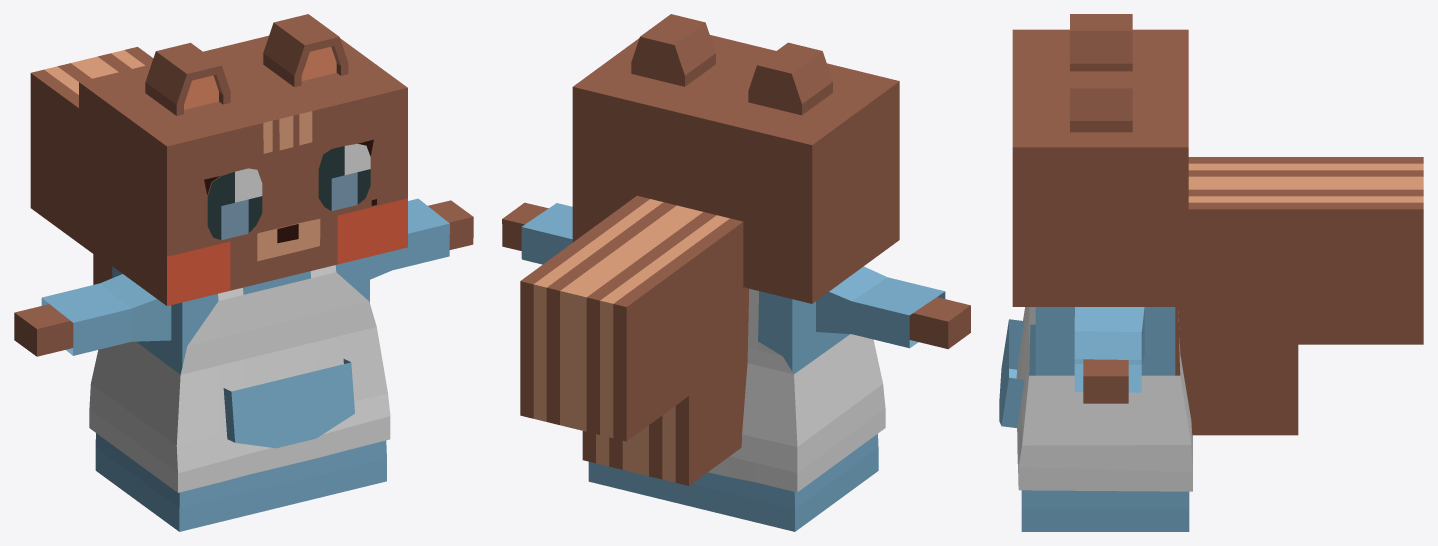
The model's file is npc_basic form_nari's mom.fbx.
3 renders of one model, left to right at view 1: azimuth 30°, elevation 25°; view 2: azimuth 150°, elevation 25°; view 3: azimuth 270°, elevation 25°, orthographic.
Visible parts, largest first — view 1: head.002, dungarees(Skirt).002, Body2.001, tail.002, dungarees(Skirt).001, eyes.003, clothes.R.002, clothes.002, clothes.L.002, arm.R.002, mouth.002, arm.L.002; view 2: head.002, tail.002, dungarees(Skirt).002, Body2.001, clothes.R.002, clothes.002, arm.R.002, clothes.L.002, arm.L.002; view 3: tail.002, head.002, dungarees(Skirt).002, Body2.001, clothes.002, clothes.L.002, arm.L.002, dungarees(Skirt).001.
Boxes of the visible parts, box(x1,y1,x2,y2) form: head.002: box(79, 14, 407, 305); dungarees(Skirt).002: box(89, 265, 390, 492); Body2.001: box(95, 433, 386, 531); tail.002: box(30, 47, 153, 284); dungarees(Skirt).001: box(223, 359, 354, 448); eyes.003: box(204, 139, 373, 240); clothes.R.002: box(41, 274, 171, 355); clothes.002: box(112, 256, 369, 374); clothes.L.002: box(370, 198, 449, 279); arm.R.002: box(14, 304, 73, 356); mouth.002: box(257, 219, 320, 261); arm.L.002: box(428, 200, 473, 249); head.002: box(572, 14, 899, 303); tail.002: box(520, 195, 749, 485); dungarees(Skirt).002: box(708, 288, 885, 492); Body2.001: box(588, 434, 878, 531); clothes.R.002: box(816, 266, 945, 348); clothes.002: box(758, 291, 849, 373); arm.R.002: box(909, 297, 970, 349); clothes.L.002: box(521, 203, 572, 264); arm.L.002: box(502, 202, 548, 250); tail.002: box(1175, 157, 1423, 435); head.002: box(1012, 14, 1188, 306); dungarees(Skirt).002: box(1016, 307, 1192, 491); Body2.001: box(1021, 324, 1189, 531); clothes.002: box(1035, 307, 1175, 375); clothes.L.002: box(1074, 307, 1144, 392); arm.L.002: box(1083, 359, 1128, 403); dungarees(Skirt).001: box(999, 319, 1024, 427).
Bounding box in the file's own units: 683 × 664 × 567.
